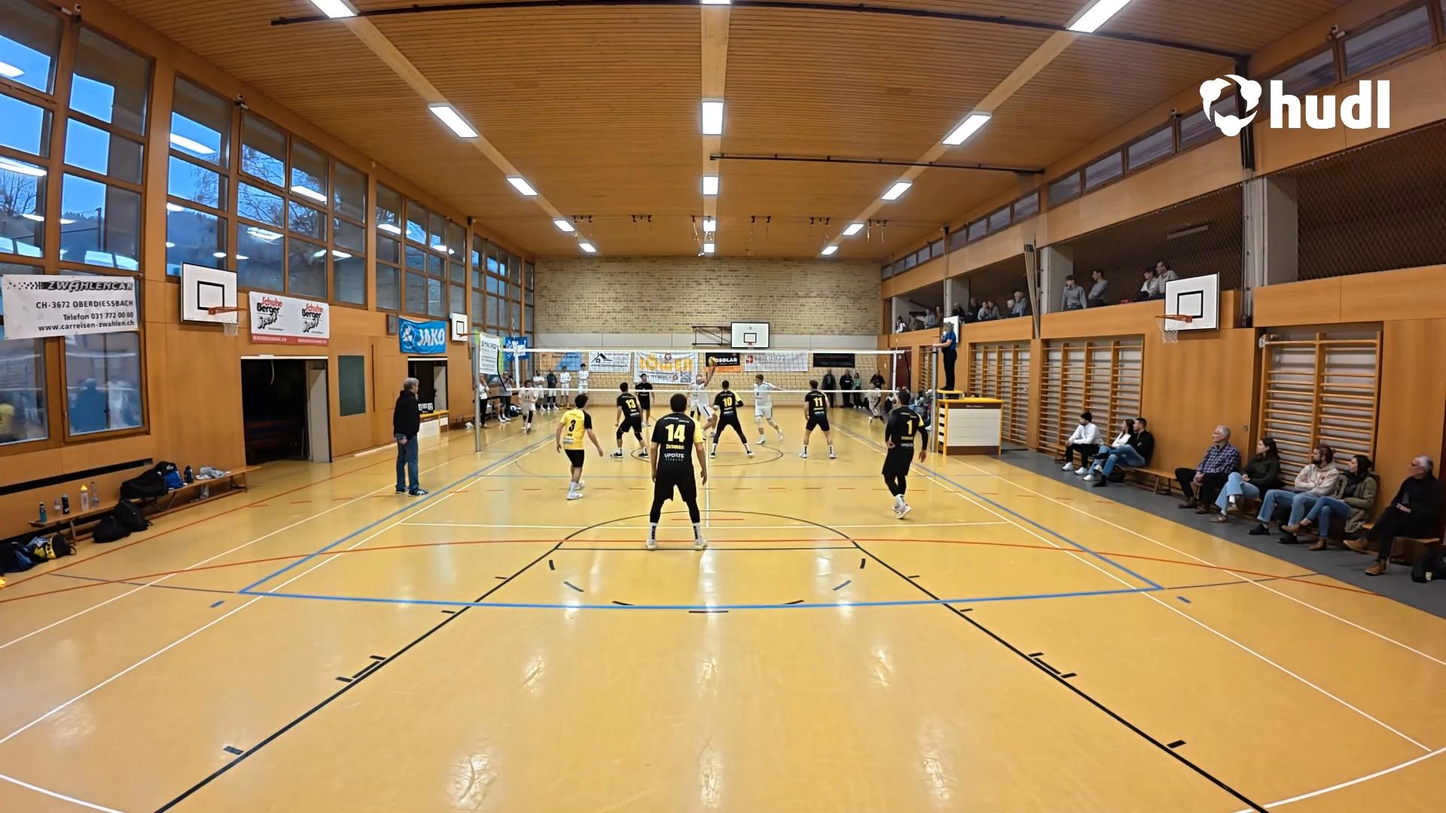alzata: (690, 358, 720, 437)
